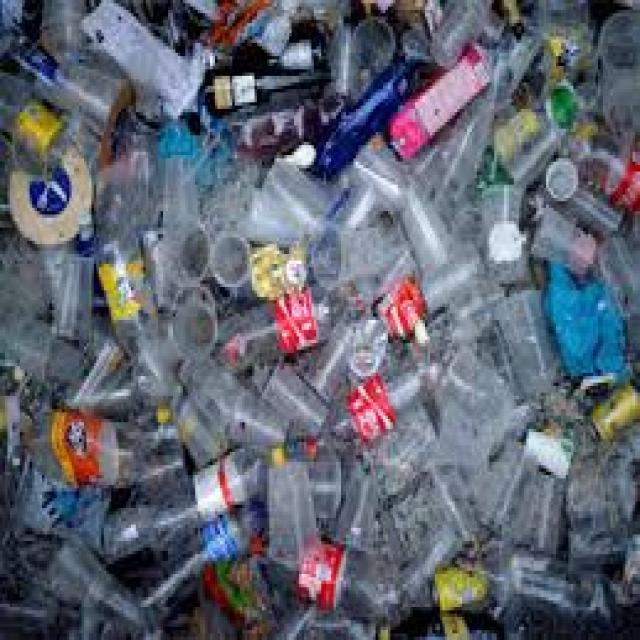heap: (78, 31, 626, 634)
